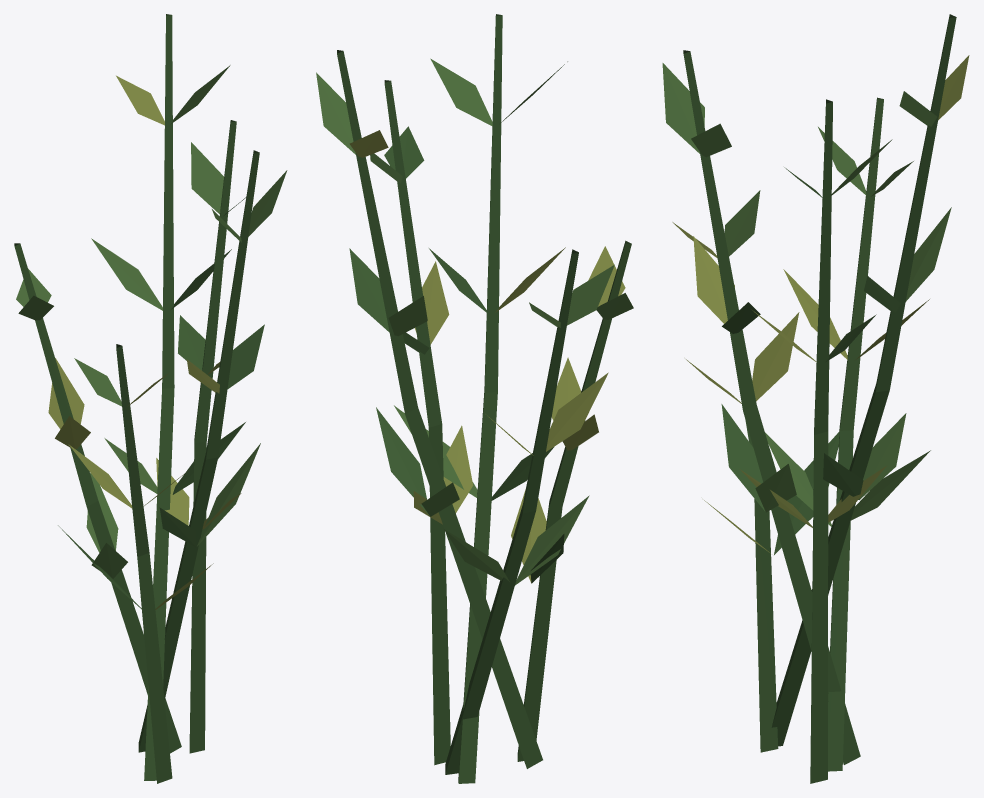
File: GroundDetail_WeedClump_B.fbx
3 views of the same model, side by side, from view 1: azimuth 30°, elevation 25°; view 2: azimuth 150°, elevation 25°; view 3: azimuth 270°, elevation 25° (orthographic). The views are drawn at different scales.
Parts seen in each view (by area): view 1: GroundDetail_WeedClump_B; view 2: GroundDetail_WeedClump_B; view 3: GroundDetail_WeedClump_B.
Boxes of the visible parts, x1=… form: GroundDetail_WeedClump_B: x1=14, y1=14, x2=287, y2=783; GroundDetail_WeedClump_B: x1=316, y1=14, x2=633, y2=783; GroundDetail_WeedClump_B: x1=662, y1=14, x2=969, y2=783.
Size of the model in its own units: 0.1322 by 0.3685 by 0.1307.
Materials: 1 (1 with a texture image).
